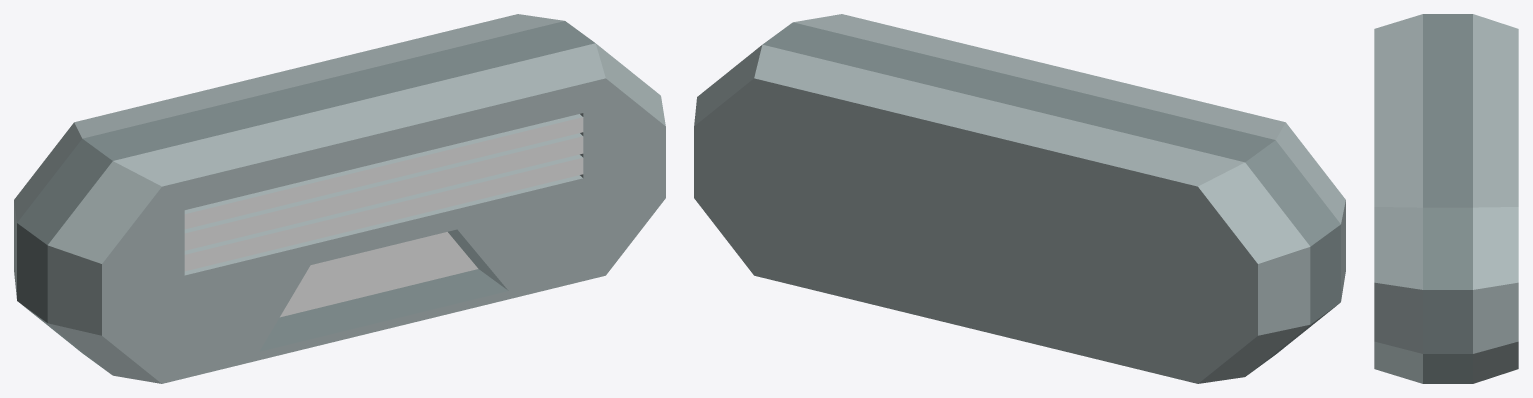
The model's file is Air-Conditioning-2.fbx.
3 renders of one model, left to right at view 1: azimuth 30°, elevation 25°; view 2: azimuth 150°, elevation 25°; view 3: azimuth 270°, elevation 25°, orthographic. The views are drawn at different scales.
Parts seen in each view (by area): view 1: Air-Conditioning; view 2: Air-Conditioning; view 3: Air-Conditioning.
Part boxes in pixels (box(x1,y1,x2,y2)): Air-Conditioning: box(14, 14, 665, 383); Air-Conditioning: box(694, 14, 1345, 383); Air-Conditioning: box(1374, 14, 1518, 383).
Bounding box in the file's own units: 2.27 × 0.7599 × 0.564.
